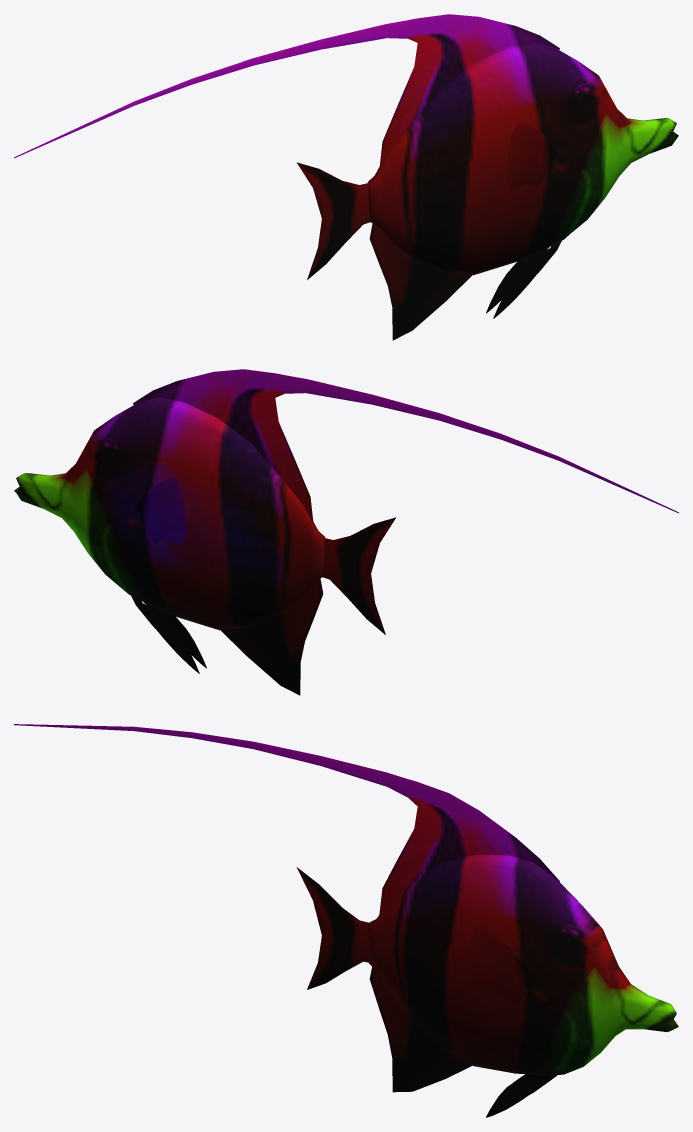
File: moorish_idol.glb
3 renders of one model, top to bottom at view 1: azimuth 30°, elevation 25°; view 2: azimuth 150°, elevation 25°; view 3: azimuth 330°, elevation 25°, orthographic.
Parts seen in each view (by area): view 1: MoorishIdol; view 2: MoorishIdol; view 3: MoorishIdol.
Boxes of the visible parts, <box> form: MoorishIdol: <box>14,14,678,340</box>; MoorishIdol: <box>14,369,678,695</box>; MoorishIdol: <box>14,724,678,1117</box>.
Bounding box in the file's own units: 1 × 0.4581 × 0.1033.
Materials: 1 (1 with a texture image).
